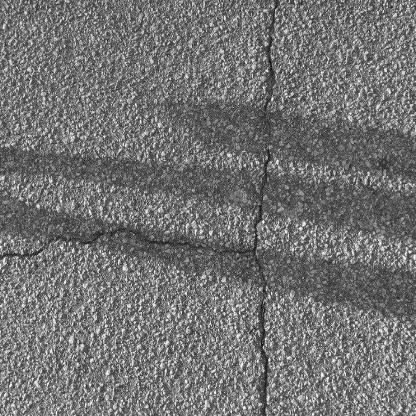Cracks: (247, 0, 283, 416), (0, 228, 246, 264)
